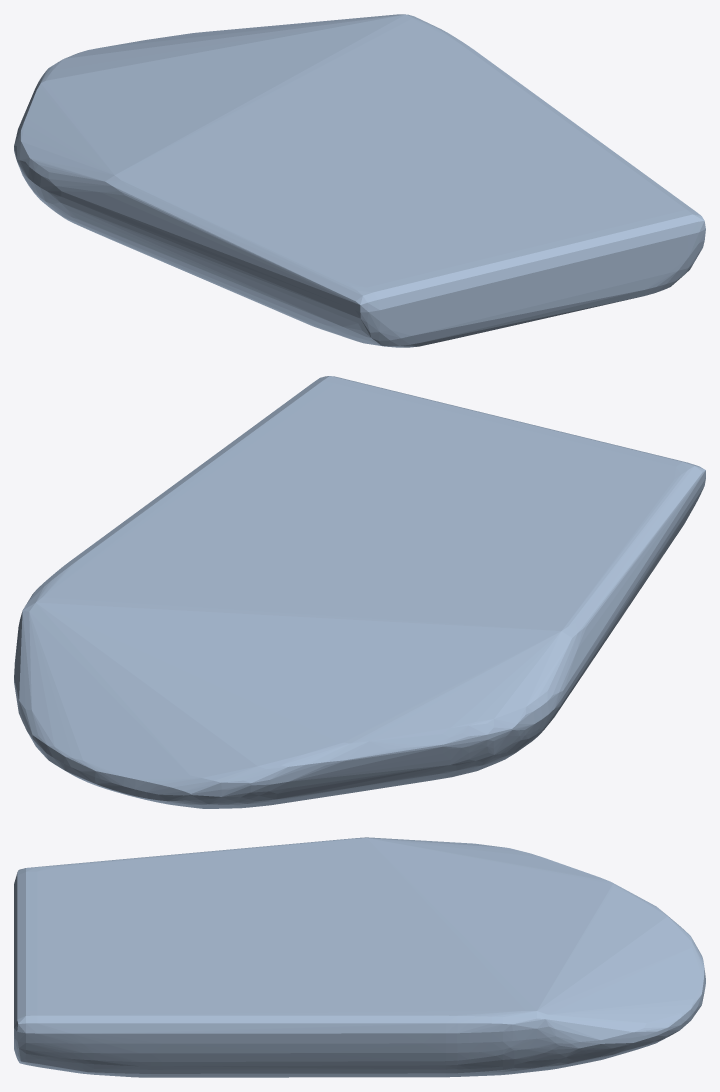
The model's file is left_hip_pitch_link_part_6.obj.
The picture shows the model from 3 angles, top to bottom: view 1: azimuth 30°, elevation 25°; view 2: azimuth 150°, elevation 25°; view 3: azimuth 270°, elevation 25°; orthographic projection. The views are drawn at different scales.
Size of the model in its own units: 0.087 by 0.0157 by 0.1287.
